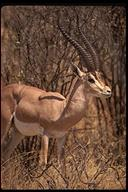antelope: (1, 13, 113, 166)
bush: (2, 138, 126, 187)
